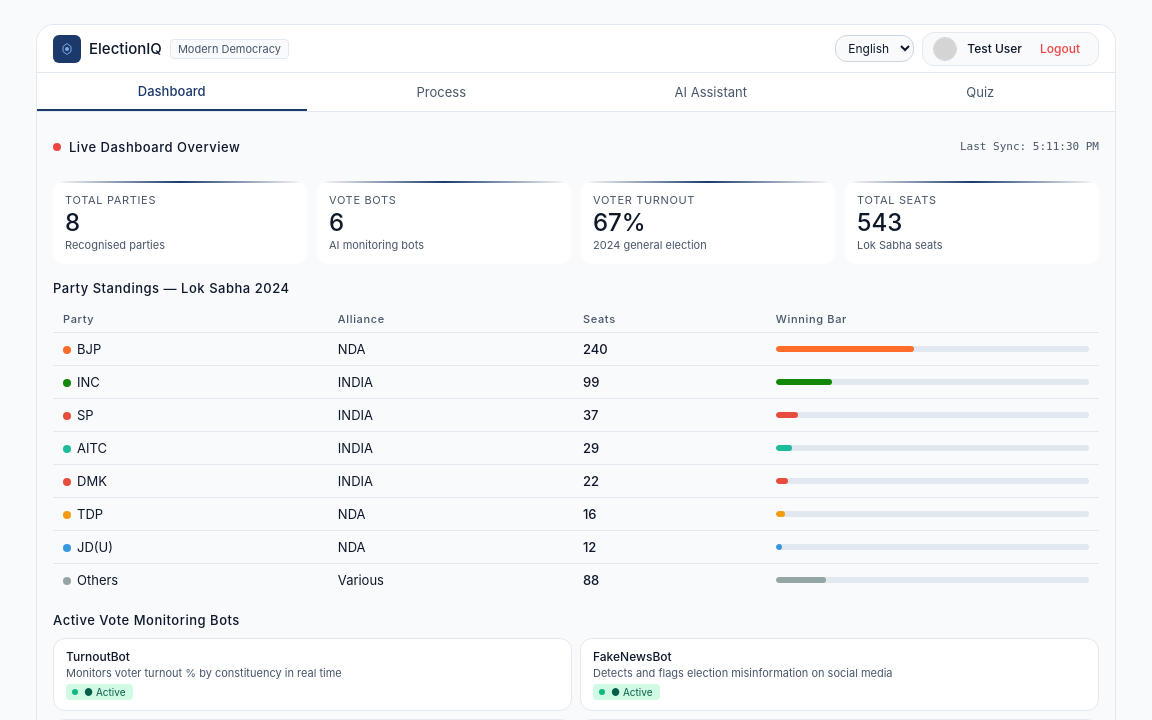
Test case: opens the roadmap modal when a form card is clicked from the process tab
What coordinates should you click on to do the following:
click the tab "Process"
I would click on:
 (441, 92)
Its box is [306,73,576,111].
(page scrolled)
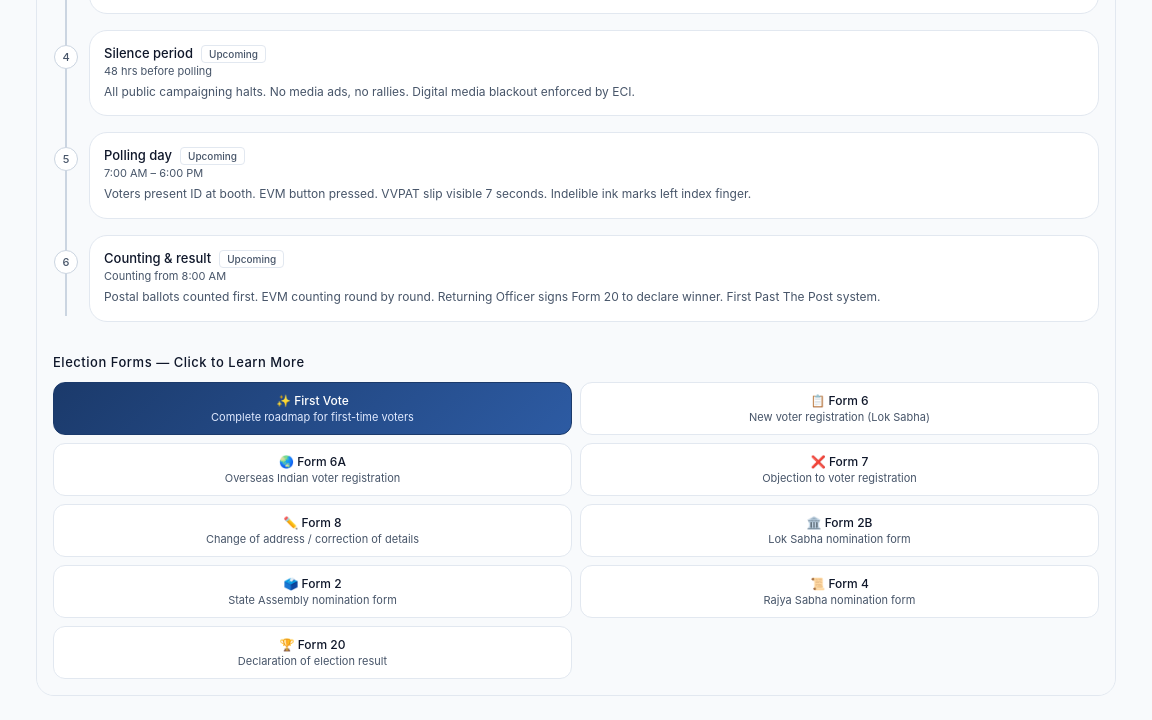
What coordinates should you click on to do the following:
click the button with aria-label "Learn about"
I would click on:
 (840, 408)
Its box is [580,382,1099,435].
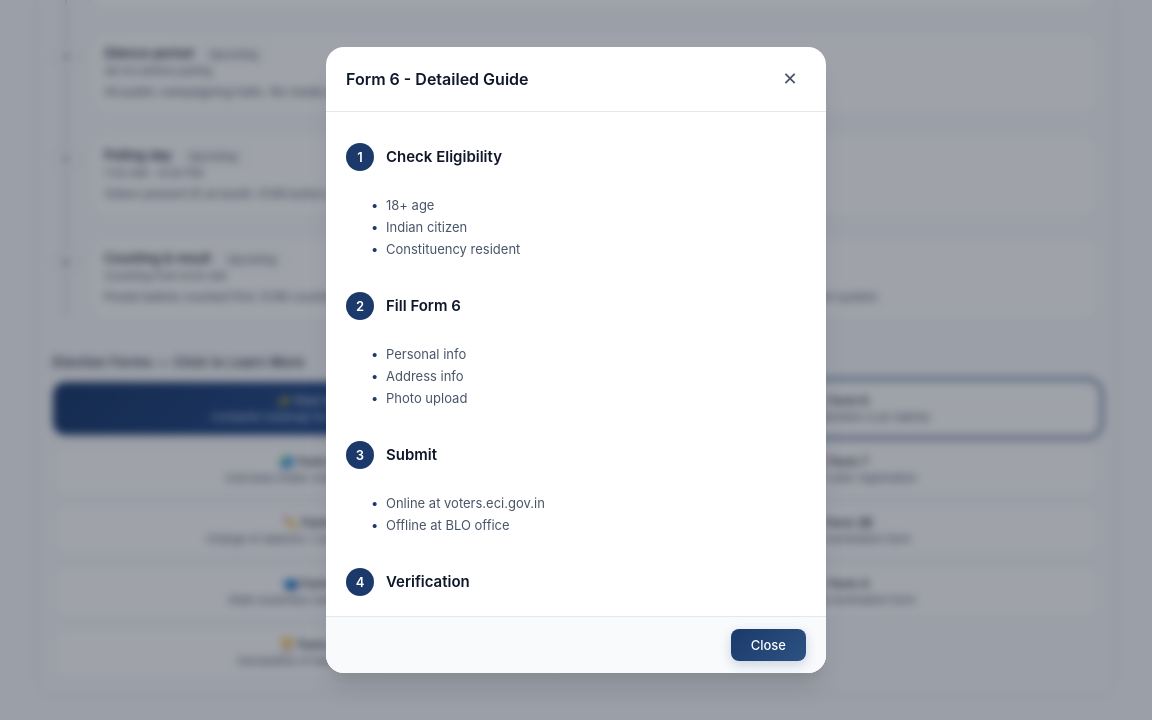
Result: the dialog is shown at [326,47,826,673]
